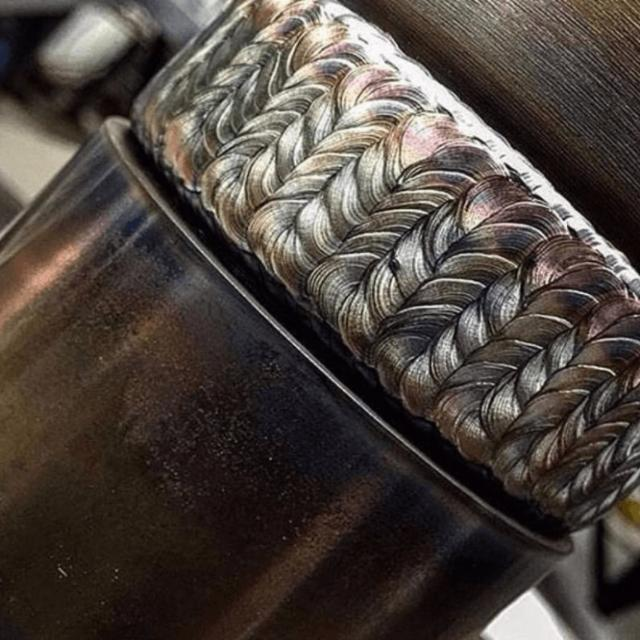Good Weld: (124, 0, 639, 532)
